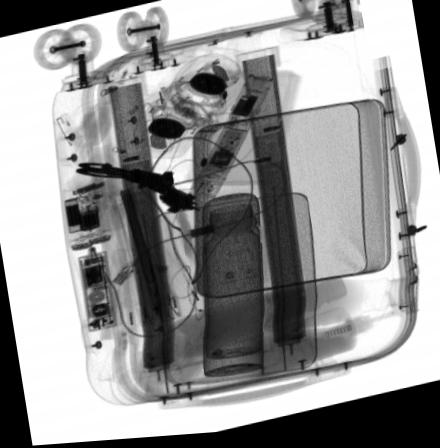Baton: (187, 76, 274, 209)
HandCuffs: (75, 162, 200, 216)
